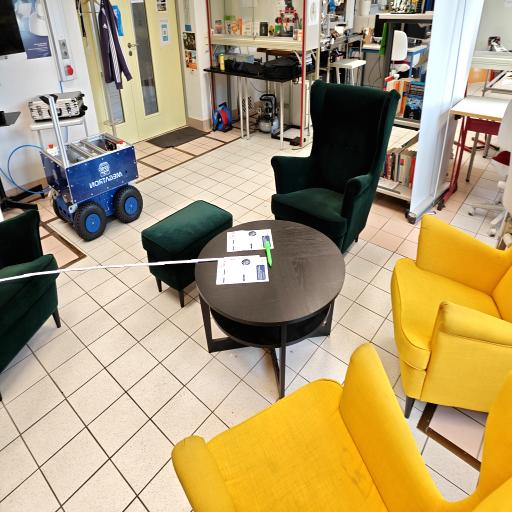Probe-Detection: (265, 241, 272, 266)
